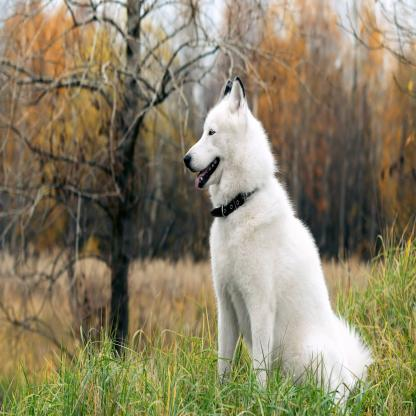dog: (182, 76, 372, 398)
